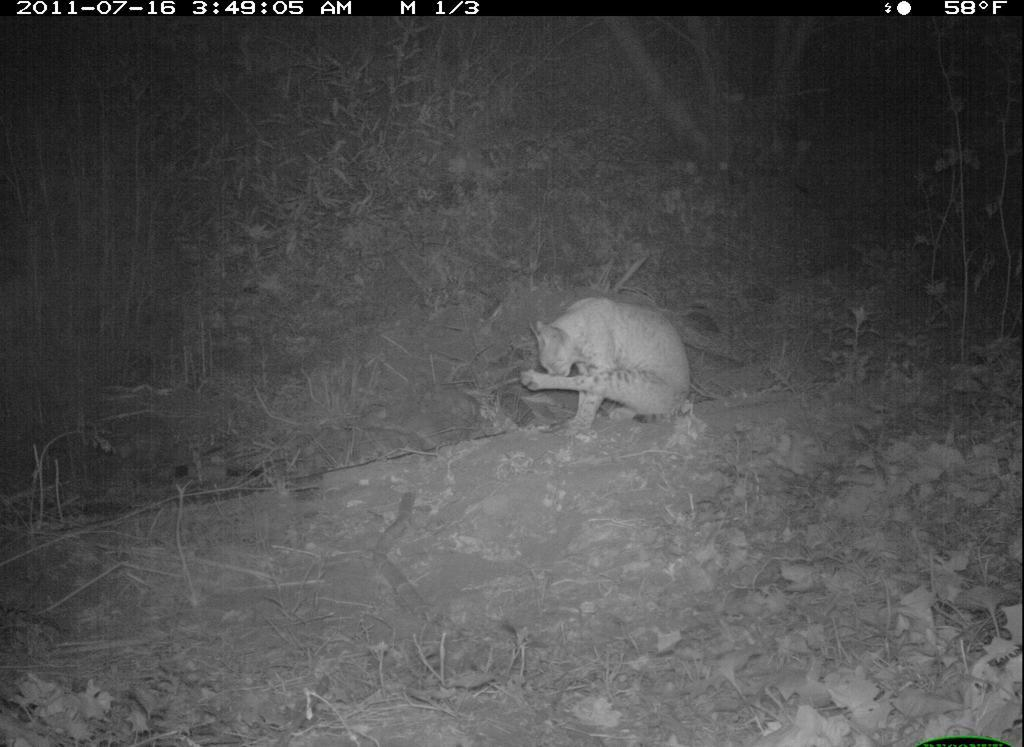bobcat: (513, 289, 707, 446)
